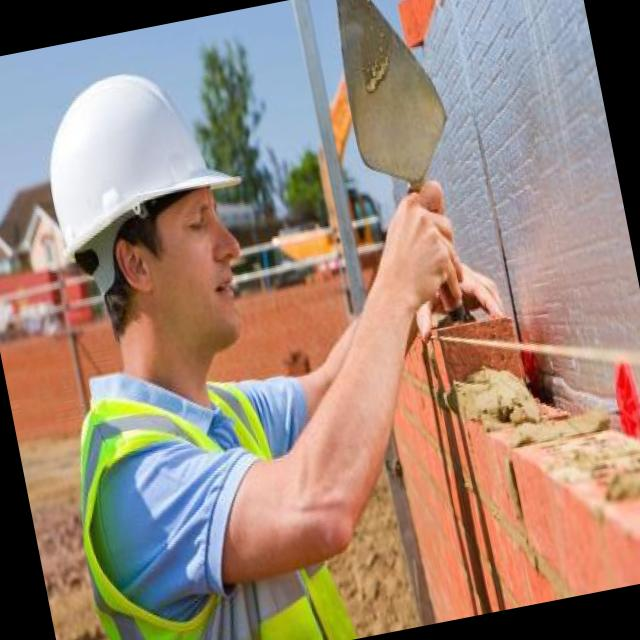helmet: (8, 19, 286, 418)
